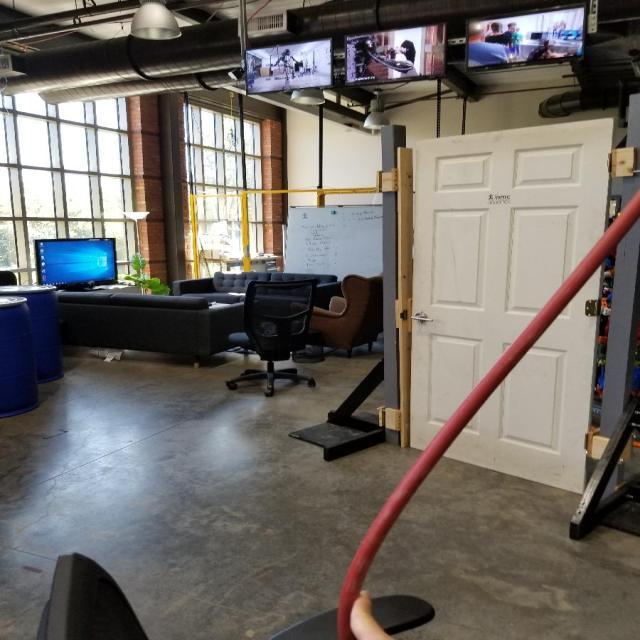door: (406, 114, 619, 499), (410, 308, 434, 324)
